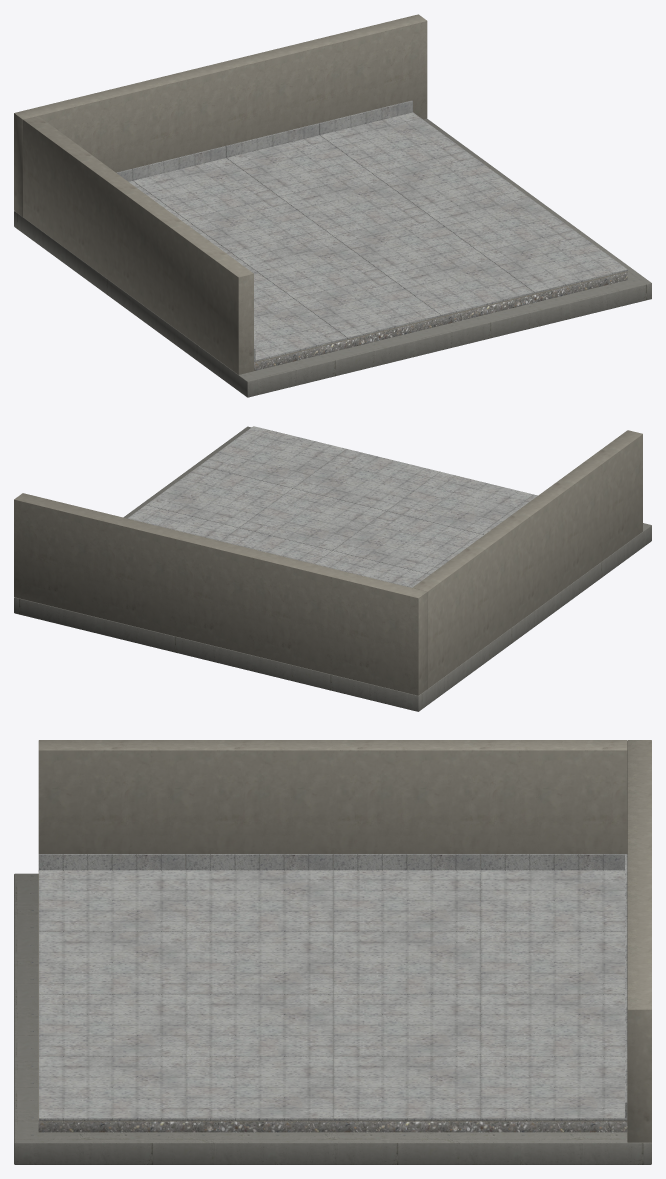
The model's file is KIT-PIS-03.glb.
The picture shows the model from 3 angles, top to bottom: view 1: azimuth 30°, elevation 25°; view 2: azimuth 150°, elevation 25°; view 3: azimuth 270°, elevation 25°; orthographic projection. The views are drawn at different scales.
Parts seen in each view (by area): view 1: KIT-PIS-03_parede_fundo, KIT-PIS-03_parede_esq, KIT-PIS-03_laje, KIT-PIS-03_p12, KIT-PIS-03_p8, KIT-PIS-03_p4, KIT-PIS-03_p13, KIT-PIS-03_p14, KIT-PIS-03_p6, KIT-PIS-03_p9, KIT-PIS-03_p5, KIT-PIS-03_p10 (+10 smaller); view 2: KIT-PIS-03_parede_fundo, KIT-PIS-03_parede_esq, KIT-PIS-03_laje, KIT-PIS-03_p9, KIT-PIS-03_p5, KIT-PIS-03_p4, KIT-PIS-03_p12, KIT-PIS-03_p13, KIT-PIS-03_p8, KIT-PIS-03_p6, KIT-PIS-03_p14, KIT-PIS-03_p10; view 3: KIT-PIS-03_parede_esq, KIT-PIS-03_laje, KIT-PIS-03_parede_fundo, KIT-PIS-03_p13, KIT-PIS-03_p14, KIT-PIS-03_p12, KIT-PIS-03_p15, KIT-PIS-03_p10, KIT-PIS-03_p5, KIT-PIS-03_p6, KIT-PIS-03_p9, KIT-PIS-03_p4 (+13 smaller).
Boxes of the visible parts, box(x1,y1,x2,y2) form: KIT-PIS-03_parede_fundo: box(14, 14, 427, 216); KIT-PIS-03_parede_esq: box(23, 116, 253, 374); KIT-PIS-03_laje: box(14, 118, 651, 397); KIT-PIS-03_p12: box(481, 230, 627, 293); KIT-PIS-03_p8: box(387, 253, 534, 316); KIT-PIS-03_p4: box(294, 276, 440, 338); KIT-PIS-03_p13: box(427, 190, 573, 252); KIT-PIS-03_p14: box(373, 151, 519, 213); KIT-PIS-03_p6: box(186, 197, 332, 258); KIT-PIS-03_p9: box(333, 213, 479, 275); KIT-PIS-03_p5: box(240, 236, 386, 298); KIT-PIS-03_p10: box(279, 174, 426, 236); KIT-PIS-03_parede_fundo: box(14, 493, 427, 695); KIT-PIS-03_parede_esq: box(412, 430, 642, 688); KIT-PIS-03_laje: box(14, 426, 651, 711); KIT-PIS-03_p9: box(239, 488, 386, 550); KIT-PIS-03_p5: box(333, 511, 479, 573); KIT-PIS-03_p4: box(387, 471, 533, 533); KIT-PIS-03_p12: box(200, 426, 346, 488); KIT-PIS-03_p13: box(146, 465, 292, 527); KIT-PIS-03_p8: box(293, 449, 439, 510); KIT-PIS-03_p6: box(314, 550, 425, 586); KIT-PIS-03_p14: box(127, 505, 238, 541); KIT-PIS-03_p10: box(221, 528, 331, 563); KIT-PIS-03_parede_esq: box(38, 740, 627, 871); KIT-PIS-03_laje: box(14, 873, 651, 1164); KIT-PIS-03_parede_fundo: box(627, 740, 651, 1142); KIT-PIS-03_p13: box(186, 1056, 333, 1120); KIT-PIS-03_p14: box(333, 1056, 480, 1120); KIT-PIS-03_p12: box(39, 1056, 185, 1120); KIT-PIS-03_p15: box(481, 1056, 627, 1120); KIT-PIS-03_p10: box(333, 994, 480, 1056); KIT-PIS-03_p5: box(186, 932, 333, 994); KIT-PIS-03_p6: box(333, 932, 480, 994); KIT-PIS-03_p9: box(186, 994, 333, 1056); KIT-PIS-03_p4: box(39, 932, 185, 994).
Size of the model in its own units: 2.6 by 0.7 by 2.6.
Materials: 5 (5 with a texture image).
